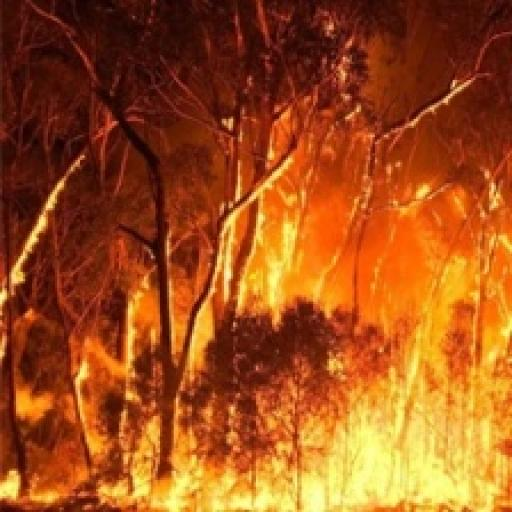fire and smoke: (165, 0, 510, 510)
